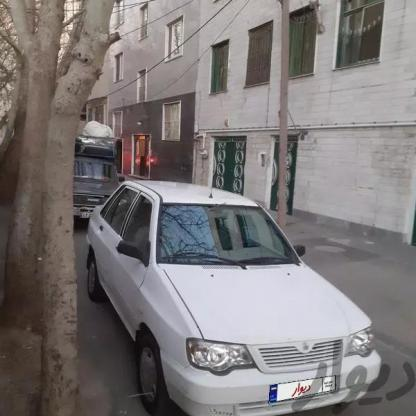Car: (78, 167, 363, 416), (43, 116, 148, 231)
